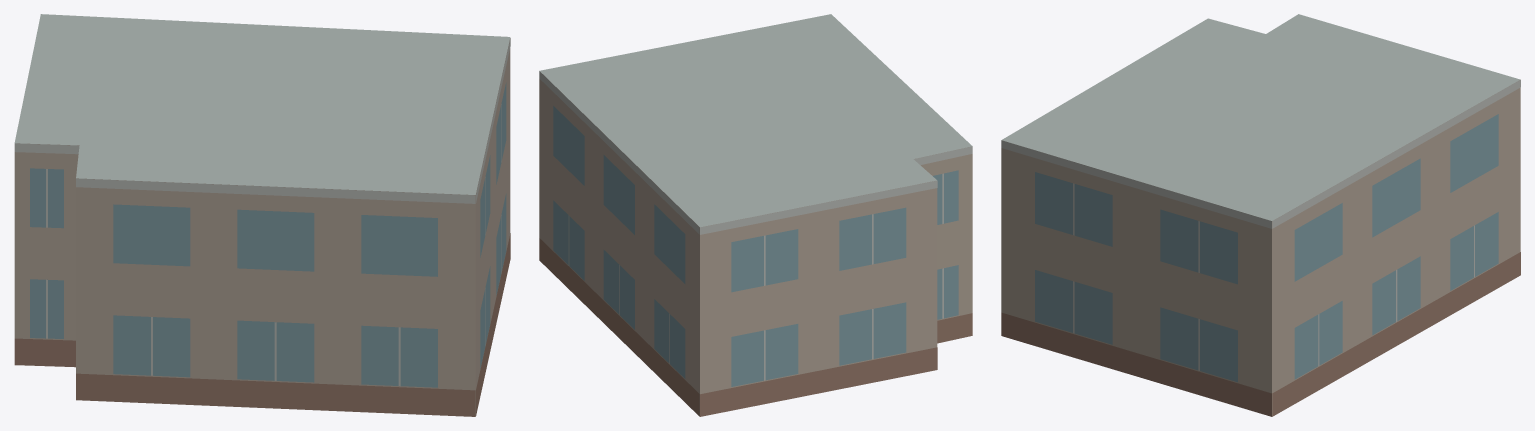
File: survey-upis-33040638.glb
3 views of the same model, side by side, from view 1: azimuth 30°, elevation 25°; view 2: azimuth 150°, elevation 25°; view 3: azimuth 270°, elevation 25° (orthographic). The views are drawn at different scales.
Parts seen in each view (by area): view 1: survey-upis-33040638.tmp; view 2: survey-upis-33040638.tmp; view 3: survey-upis-33040638.tmp.
Part boxes in pixels (x1,y1,x2,y2): survey-upis-33040638.tmp: (14, 14, 510, 416); survey-upis-33040638.tmp: (539, 14, 972, 416); survey-upis-33040638.tmp: (1001, 14, 1520, 416).
Size of the model in its own units: 13.85 by 6.1 by 14.68.
